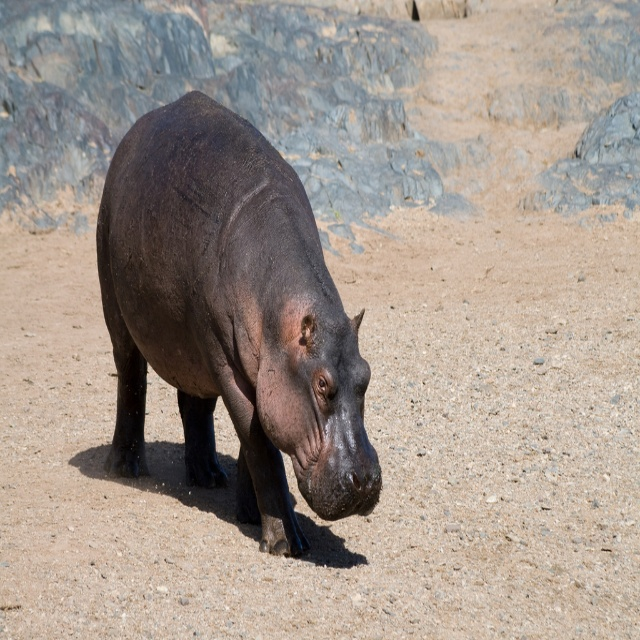Hippopotamus: (96, 88, 381, 562)
